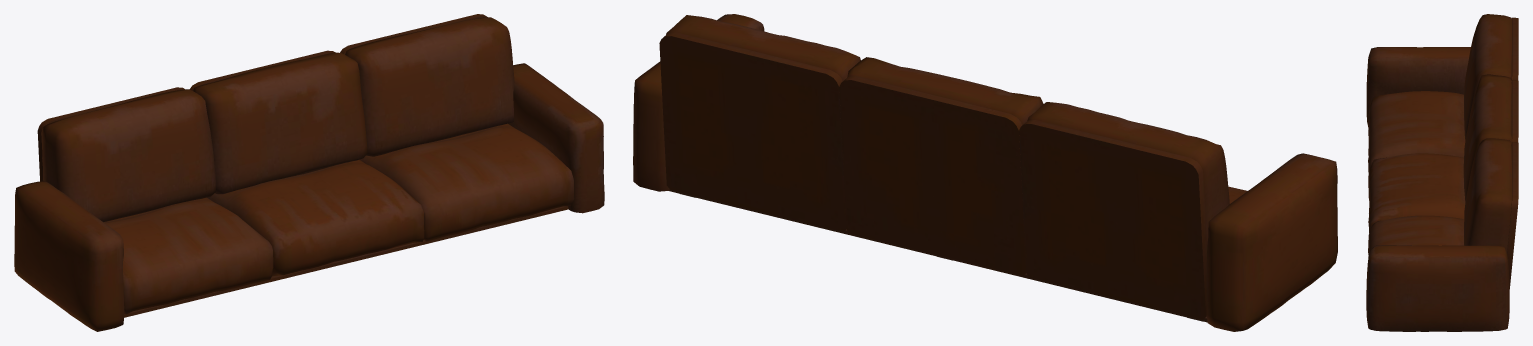
File: SM_Sofa_Triple_01.glb
3 renders of one model, left to right at view 1: azimuth 30°, elevation 25°; view 2: azimuth 150°, elevation 25°; view 3: azimuth 270°, elevation 25°, orthographic. The views are drawn at different scales.
Parts seen in each view (by area): view 1: SM_Sofa_Triple_01; view 2: SM_Sofa_Triple_01; view 3: SM_Sofa_Triple_01.
Part boxes in pixels (x1=…): SM_Sofa_Triple_01: x1=14, y1=14, x2=604, y2=331; SM_Sofa_Triple_01: x1=633, y1=14, x2=1337, y2=331; SM_Sofa_Triple_01: x1=1366, y1=14, x2=1518, y2=331.
Size of the model in its own units: 4.13 by 1.1 by 1.22.
Materials: 1 (1 with a texture image).
